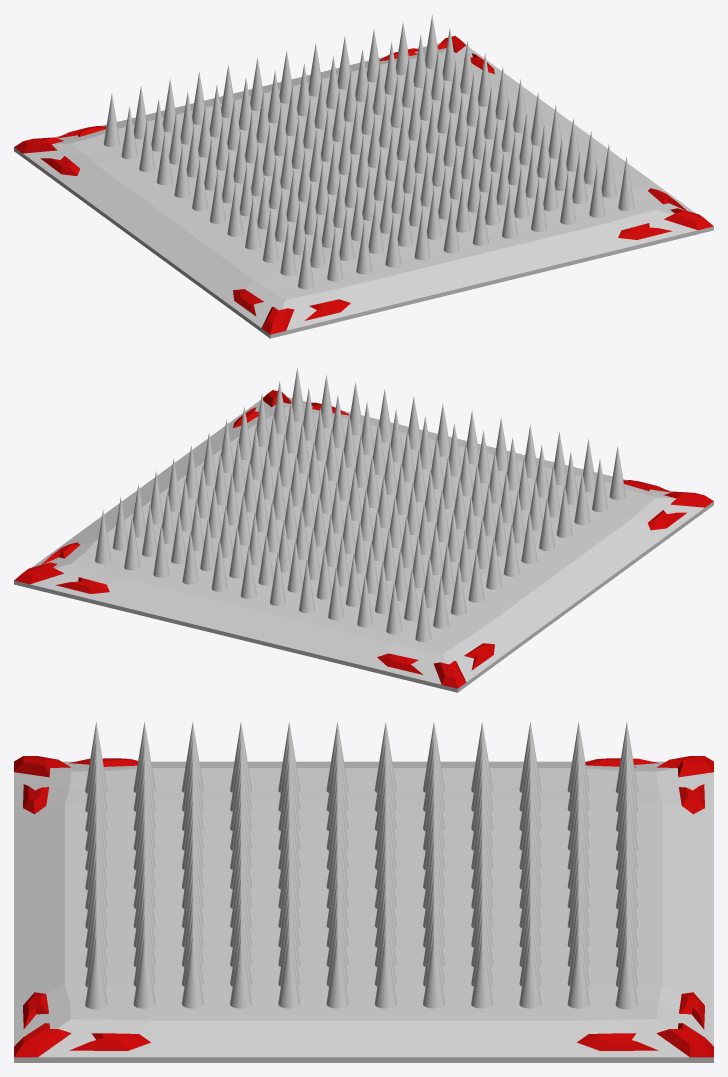
File: spiketrap.fbx
3 views of the same model, one above another, from view 1: azimuth 30°, elevation 25°; view 2: azimuth 150°, elevation 25°; view 3: azimuth 270°, elevation 25° (orthographic). The views are drawn at different scales.
Visible parts, largest first — view 1: Cone, Cube; view 2: Cone, Cube; view 3: Cube, Cone.
Boxes of the visible parts, x1=… form: Cone: x1=103, y1=15, x2=634, y2=289; Cube: x1=14, y1=36, x2=713, y2=338; Cone: x1=95, y1=368, x2=625, y2=642; Cube: x1=14, y1=390, x2=713, y2=692; Cube: x1=14, y1=756, x2=713, y2=1062; Cone: x1=85, y1=721, x2=638, y2=1009.
Size of the model in its own units: 7.92 by 1.12 by 7.92.
